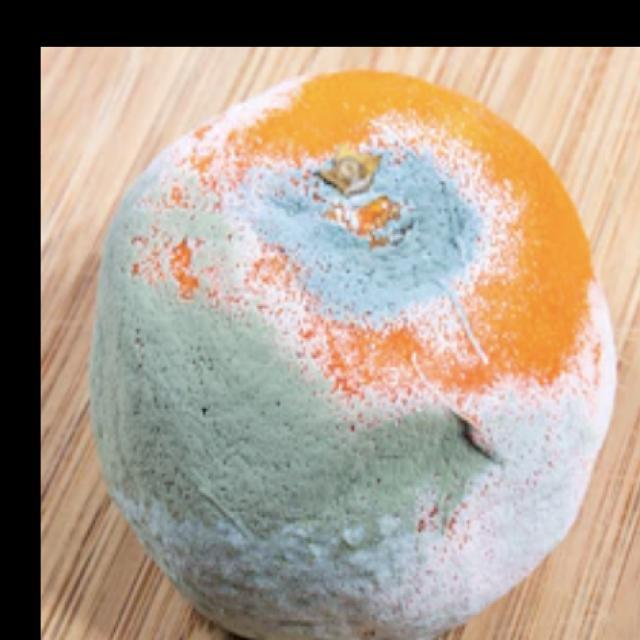sangat-busuk: (91, 71, 614, 639)
